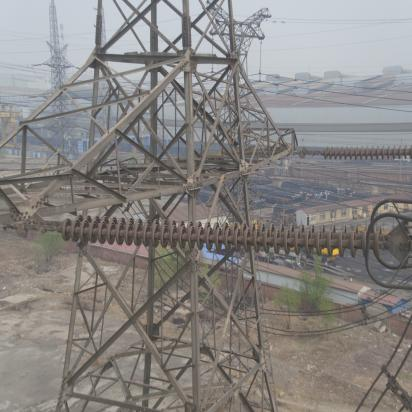insulator: (41, 213, 399, 261), (315, 145, 412, 161)
